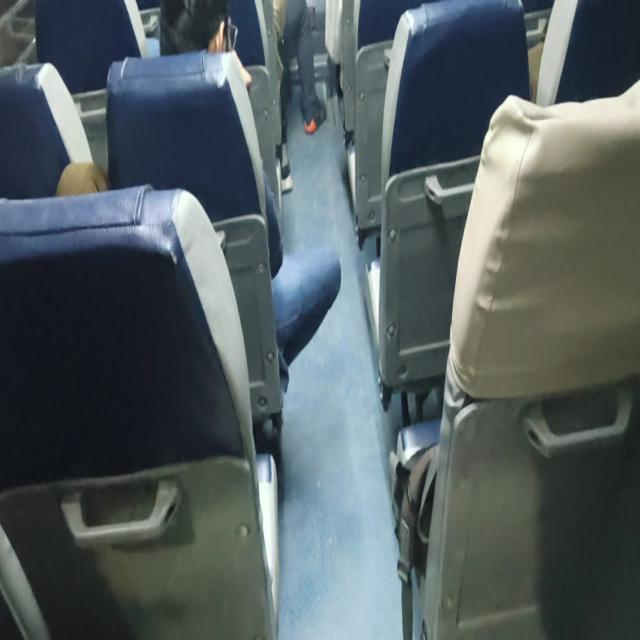person: (158, 0, 342, 395), (272, 0, 328, 135)
